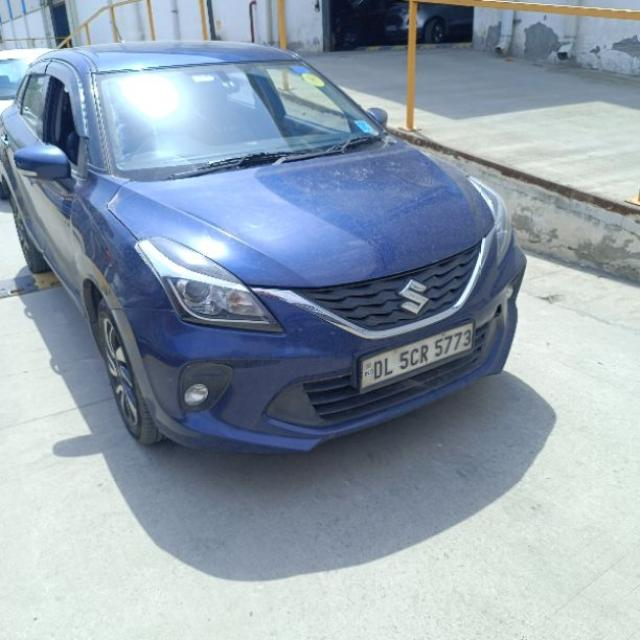license_plate: (356, 320, 474, 394)
